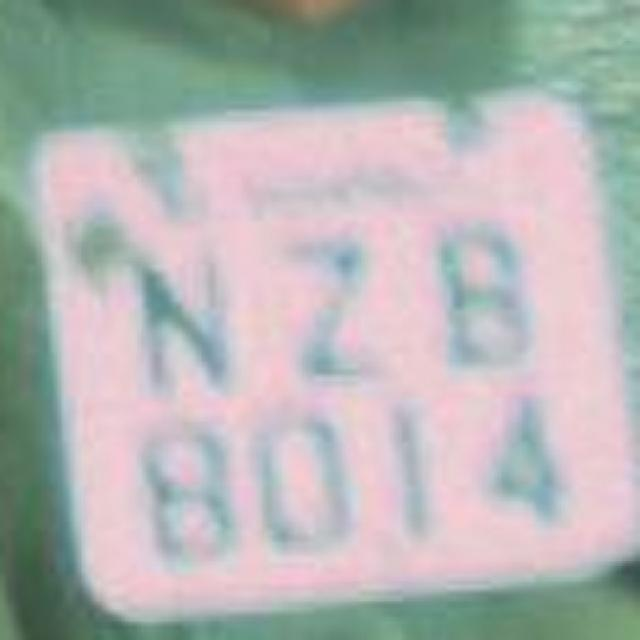0: (220, 388, 352, 560)
1: (352, 396, 432, 552)
4: (448, 380, 568, 560)
8: (112, 391, 228, 564)
B: (415, 212, 540, 388)
N: (108, 208, 248, 392)
Z: (260, 231, 395, 384)
